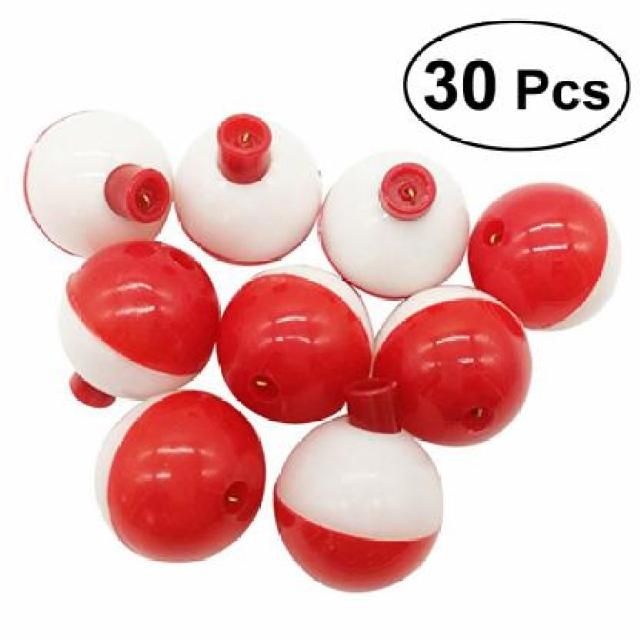a: (280, 413, 460, 598), (52, 232, 239, 410), (85, 397, 280, 557), (17, 103, 183, 272), (369, 288, 544, 432), (462, 183, 626, 332), (329, 146, 480, 295)
